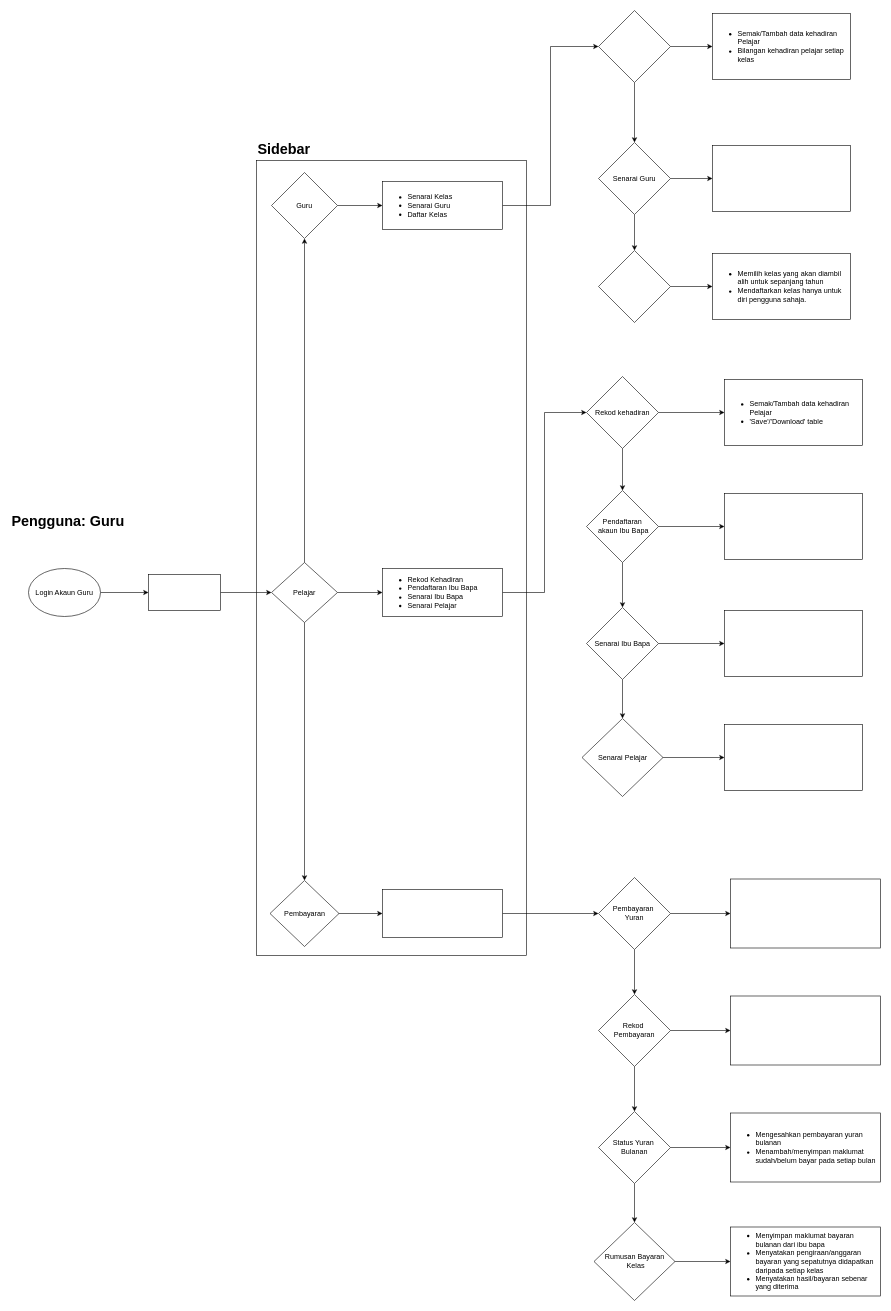
Image size: 891x1311. Some labels were removed from this diagram. Here are the shapes that lost their labels. From the top down, the centre of each, then its label:
At point (634, 46): "Senarai Kelas".
At point (781, 178): "'List' guru serta phone nombor setiap guru kelas yang berkuasa".
At point (634, 286): "Daftar Kelas".
At point (793, 526): "Daftar maklumat pendek seperti nama log masuk, kata laluan dan emel".
At point (184, 592): "Dashboard".
At point (793, 643): "Mendapatkan maklumat ibu bapa untuk murid kelas sendiri".
At point (793, 757): "Mendapatkan maklumat murid kelas sendiri".
At point (442, 913): "Pembayaran Yuran Rekod Pembayaran Status Yuran Bulanan Rumusan Bayaran Kelas".
At point (805, 913): "Menambah produk untuk dijual kepada pengguna berakses 'parent' atau ibu bapa".
At point (805, 1030): "Melihat bukti pembayaran dari ibu bapa Mengesahkan pembayaran".
